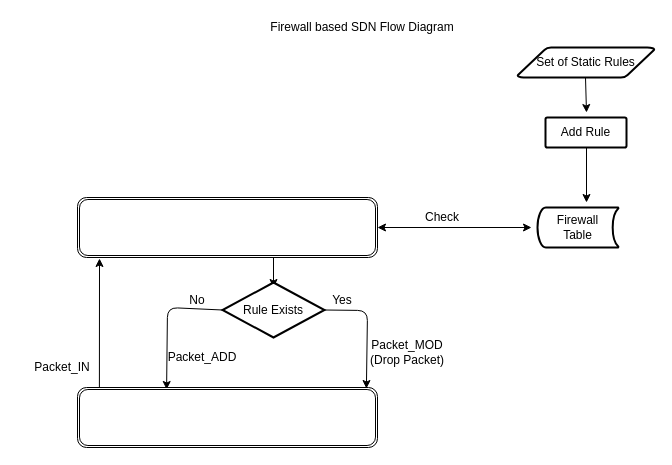
Image size: 672x465. Some labels were removed from this diagram. Each missing label, with the centre of its shape:
OVS Swtich: the point at 227,417
POX Controller: the point at 227,227
